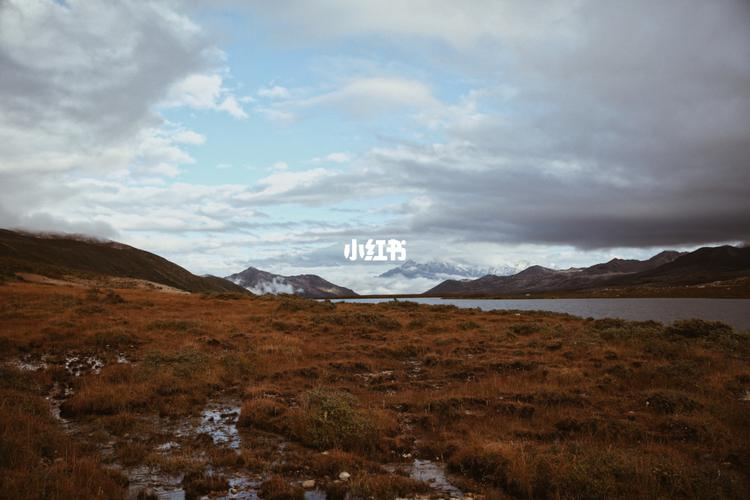mountain: (4, 269, 726, 472), (314, 290, 731, 489)
sky_cloud: (3, 42, 750, 233)
